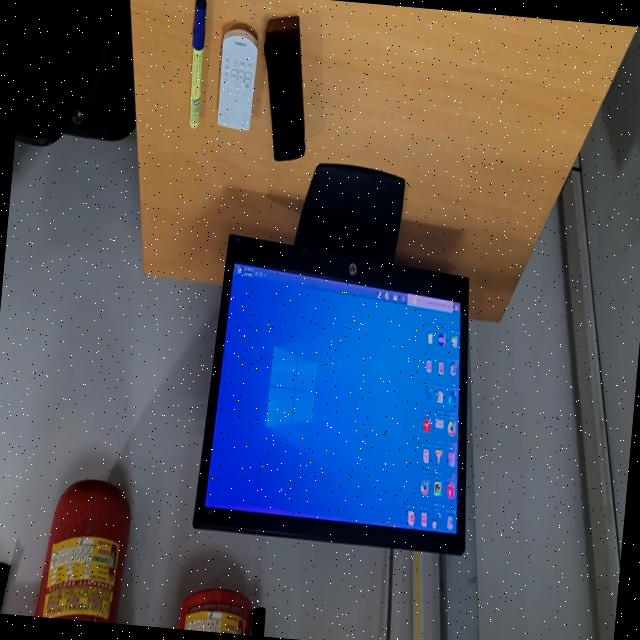Chair: (15, 0, 135, 145)
Fire Extinguisher: (35, 480, 130, 623), (178, 588, 251, 635)
Monitor: (194, 164, 468, 554)
